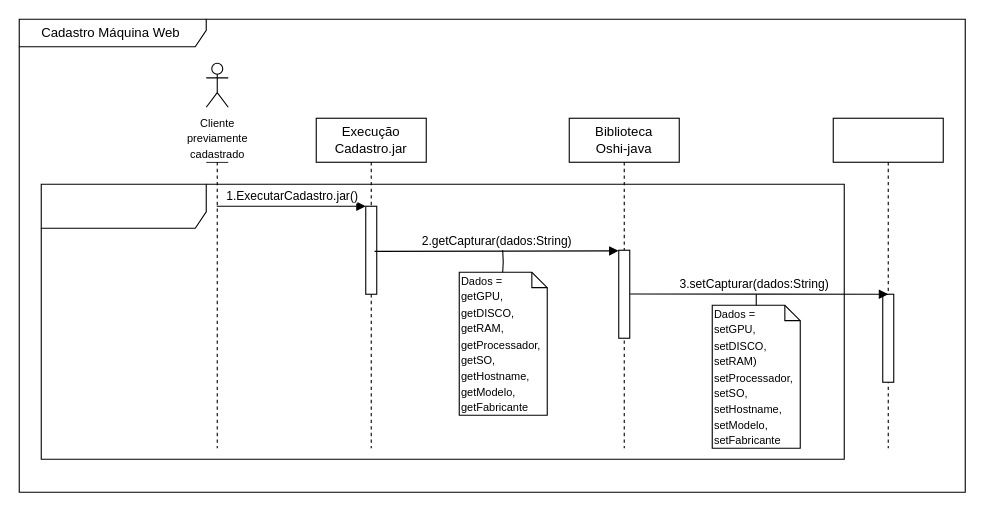
Image size: 985x512. Some labels were removed from this diagram. Each missing label, with the box of its shape:
Banco de Dados Azure: (832, 117, 943, 448)
Cadastro Máquina Local (Tela Java-Swing): (40, 183, 844, 459)
